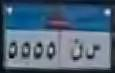5: (43, 38, 58, 64), (18, 39, 33, 62), (31, 39, 45, 63), (6, 40, 19, 60)
س: (83, 40, 100, 63)
ن: (70, 35, 83, 63)
